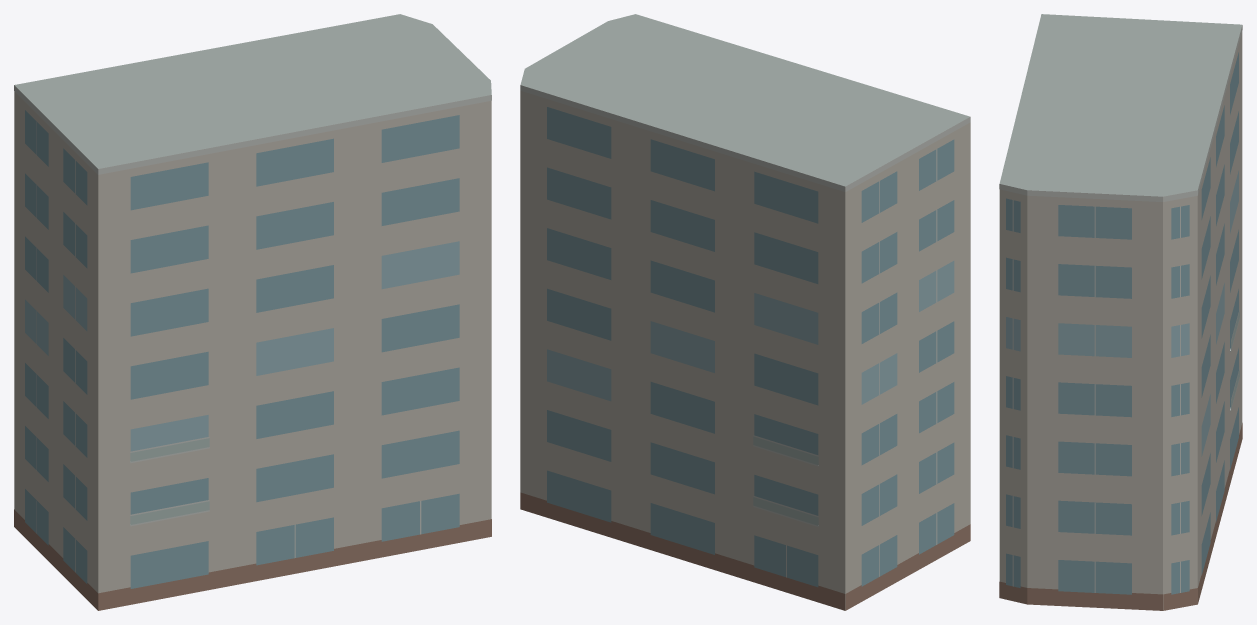
The model's file is survey-upis-32528349.glb.
The picture shows the model from 3 angles, left to right: view 1: azimuth 30°, elevation 25°; view 2: azimuth 150°, elevation 25°; view 3: azimuth 270°, elevation 25°; orthographic projection. The views are drawn at different scales.
Visible parts, largest first — view 1: survey-upis-32528349.tmp; view 2: survey-upis-32528349.tmp; view 3: survey-upis-32528349.tmp.
Part boxes in pixels (<box>): survey-upis-32528349.tmp: <box>14,14,491,610</box>; survey-upis-32528349.tmp: <box>520,14,970,610</box>; survey-upis-32528349.tmp: <box>999,14,1242,610</box>.
Size of the model in its own units: 17.51 by 18.5 by 9.85.
